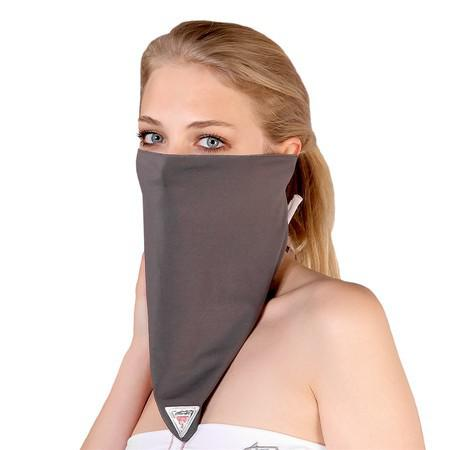OK: (131, 109, 257, 235)
